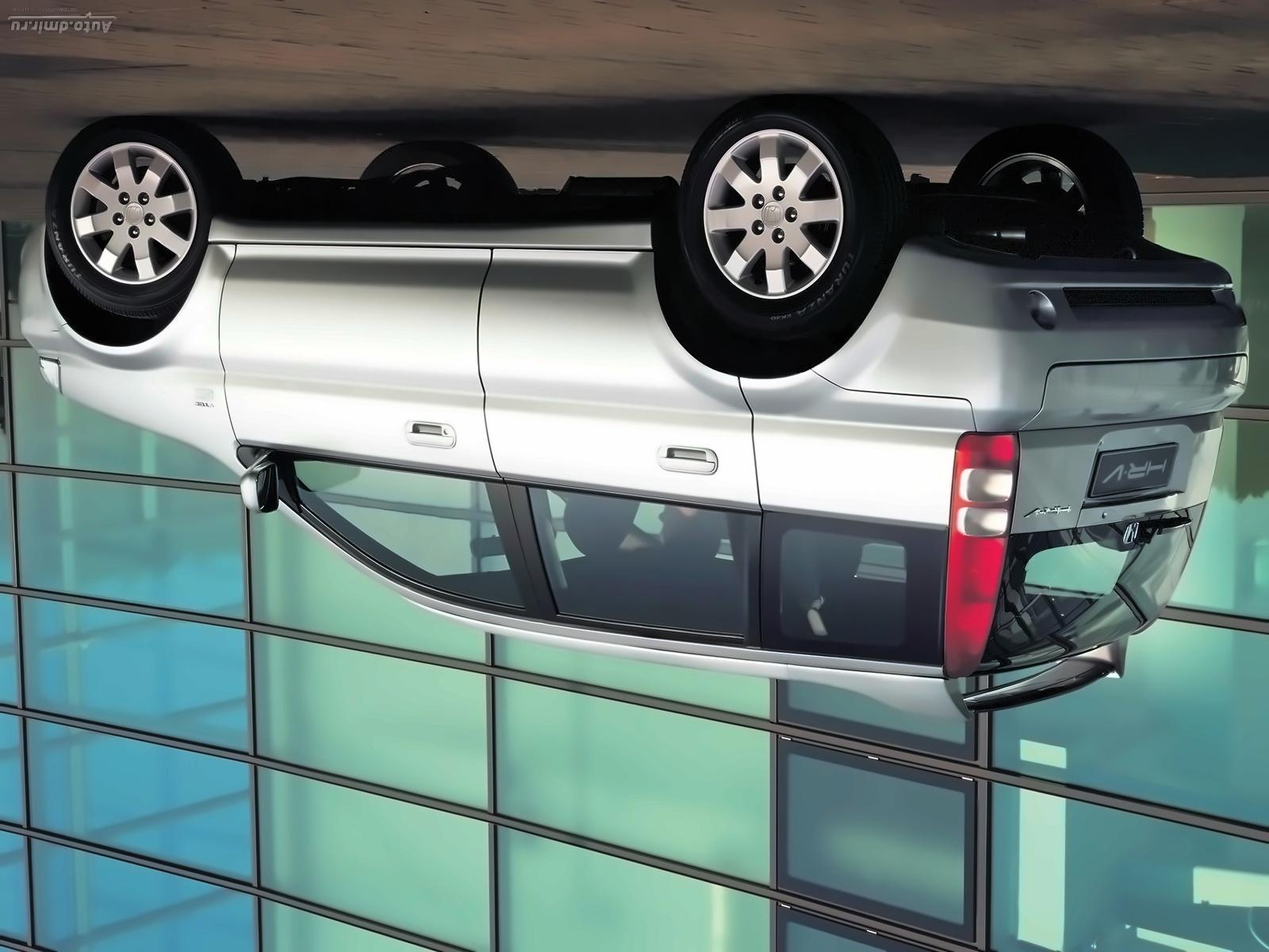Car boot: (987, 356, 1251, 716)
Driver-s door - -F-R-: (213, 218, 560, 682)
Fender - -F-R-: (8, 218, 249, 515)
Fender - -R-R-: (724, 364, 990, 572)
Passenger-s door - -R-R-: (462, 189, 781, 689)
Rear bumper: (809, 227, 1253, 441)
Rear light - -R-: (934, 429, 1025, 685)
Side bumper - -R-: (198, 202, 670, 288)
Side mirror - -R-: (239, 452, 278, 524)
